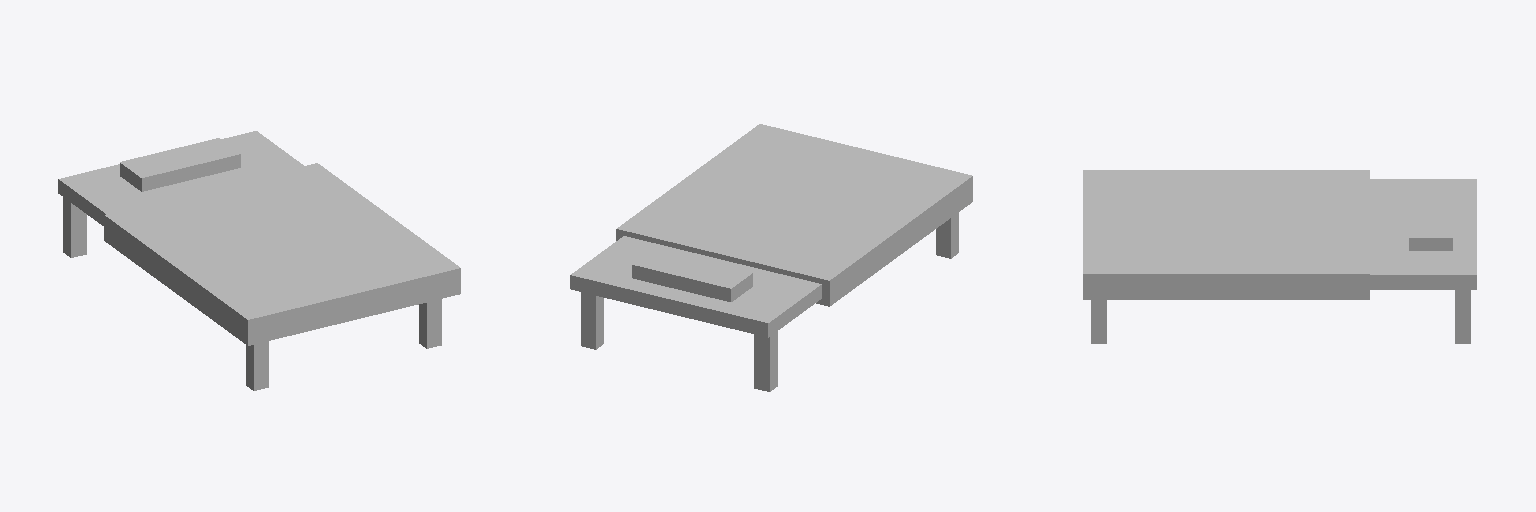
The model's file is militaryBed.obj.
The picture shows the model from 3 angles: view 1: azimuth 30°, elevation 25°; view 2: azimuth 150°, elevation 25°; view 3: azimuth 270°, elevation 25°; orthographic projection.
Visible parts, largest first — view 1: Cube.006, Cube, Cube.005, Cube.004, Cube.002, Cube.001; view 2: Cube.006, Cube, Cube.005, Cube.004, Cube.003, Cube.002; view 3: Cube.006, Cube, Cube.005, Cube.003, Cube.001.
Part boxes in pixels (x1,y1,x2,y2): Cube.006: (104,163,460,345); Cube: (58,131,303,225); Cube.005: (120,138,240,191); Cube.004: (63,197,86,257); Cube.002: (246,341,268,390); Cube.001: (419,299,441,348); Cube.006: (616,124,972,306); Cube: (570,236,821,337); Cube.005: (632,248,752,301); Cube.004: (754,331,777,391); Cube.003: (581,292,603,349); Cube.002: (936,213,958,258); Cube.006: (1083,170,1369,299); Cube: (1370,179,1476,289); Cube.005: (1409,189,1452,250); Cube.003: (1455,290,1470,343); Cube.001: (1091,300,1106,343).
Size of the model in its own units: 4.27 by 1.63 by 6.84.